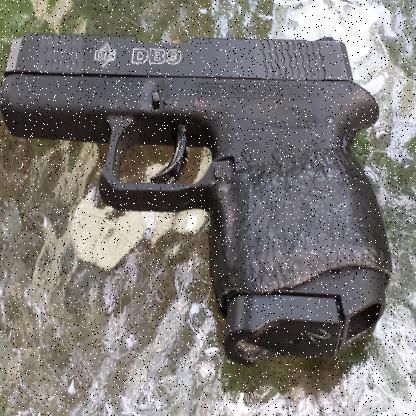pistol: (4, 35, 385, 360)
